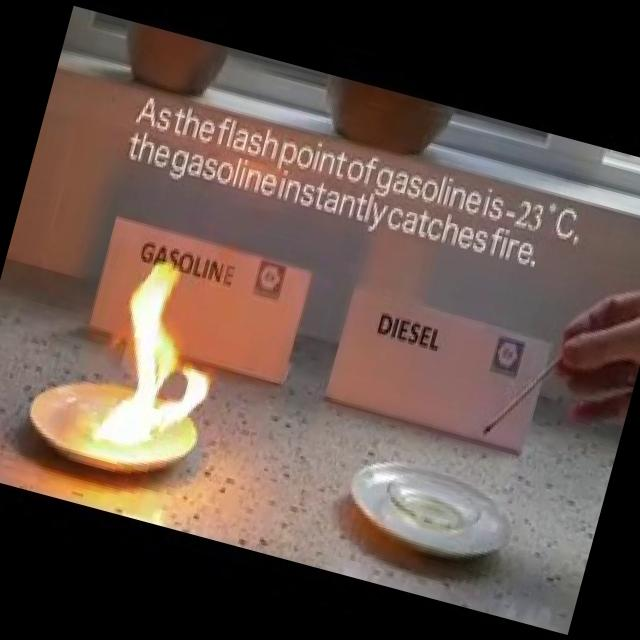Fire: (79, 241, 241, 470)
